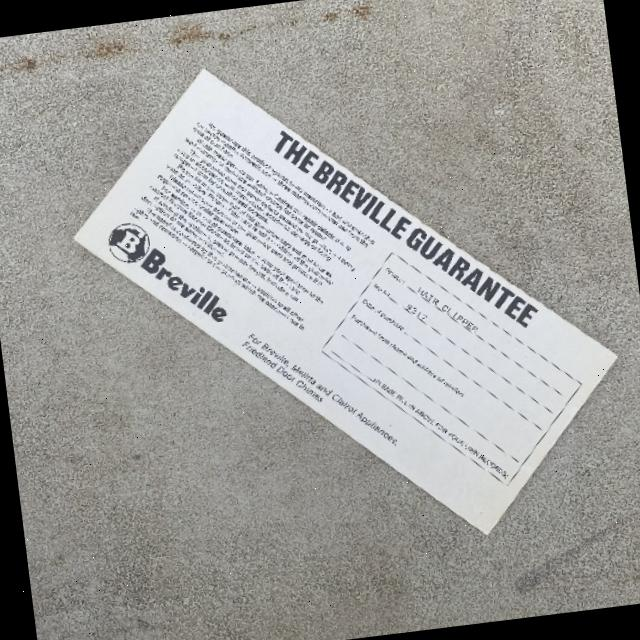paper: (53, 21, 637, 580)
